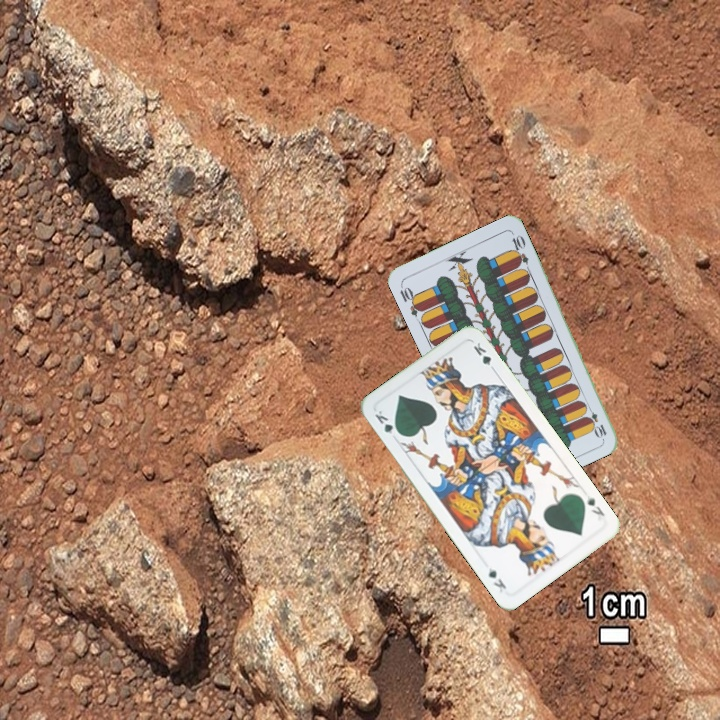E10: (396, 281, 425, 319), (582, 401, 609, 440)
GK: (370, 406, 403, 438), (582, 491, 607, 519)
